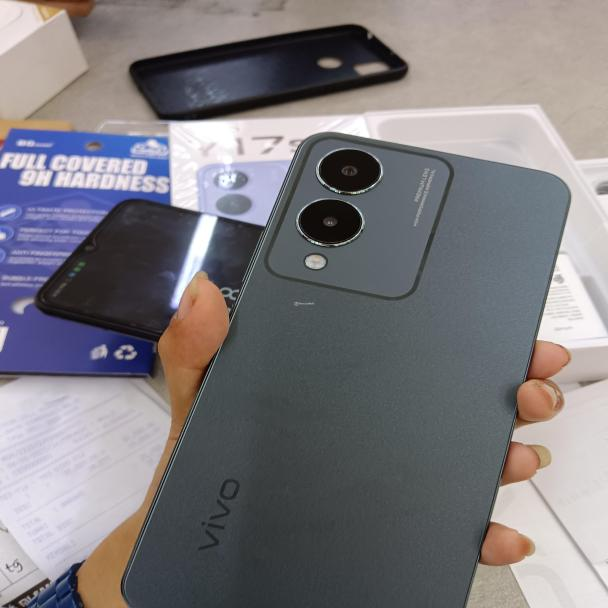Handphone: (125, 129, 572, 608)
